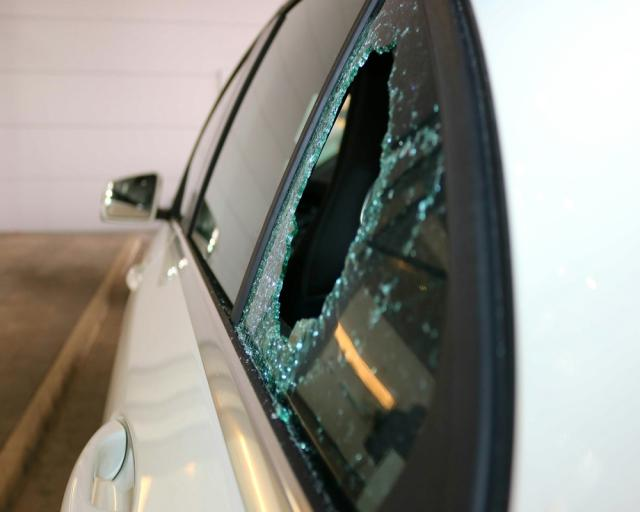glass shatter: (238, 0, 451, 510)
